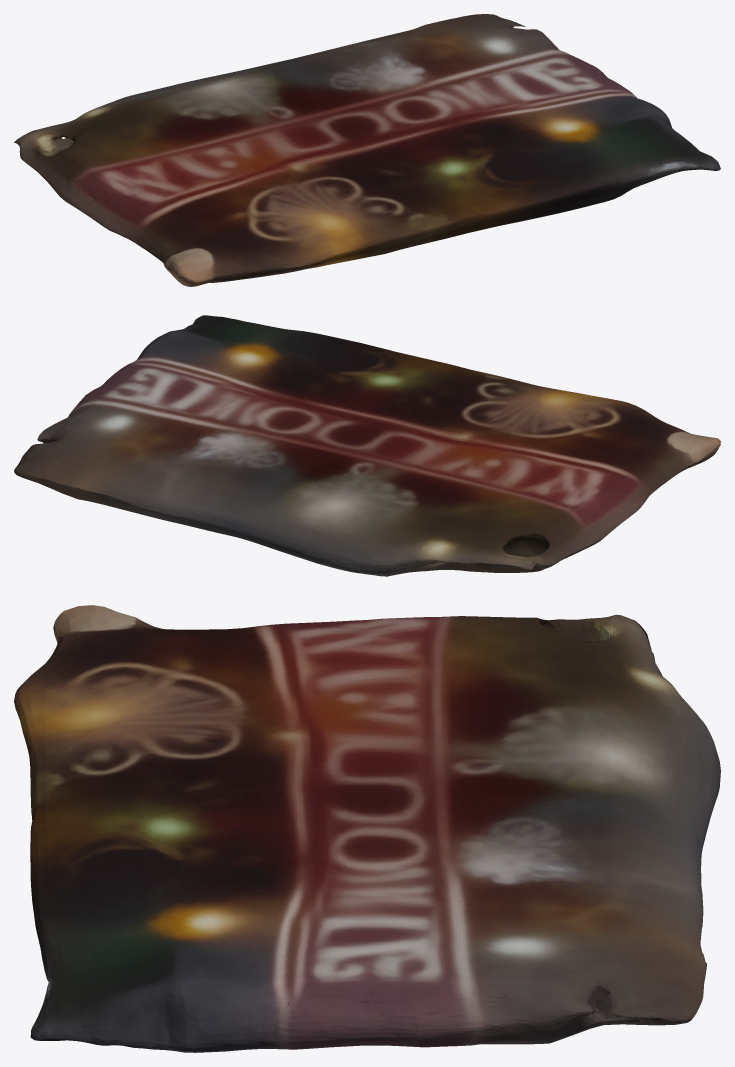
3 views of the same model, one above another, from view 1: azimuth 30°, elevation 25°; view 2: azimuth 150°, elevation 25°; view 3: azimuth 270°, elevation 25° (orthographic). The views are drawn at different scales.
Parts seen in each view (by area): view 1: geometry_0; view 2: geometry_0; view 3: geometry_0.
Boxes of the visible parts, left/top/right/bottom form: geometry_0: left=14, top=14, right=720, bottom=286; geometry_0: left=14, top=315, right=720, bottom=576; geometry_0: left=14, top=605, right=720, bottom=1052.
Size of the model in its own units: 0.994 by 0.0813 by 0.7254.
1 material, 1 textured.
